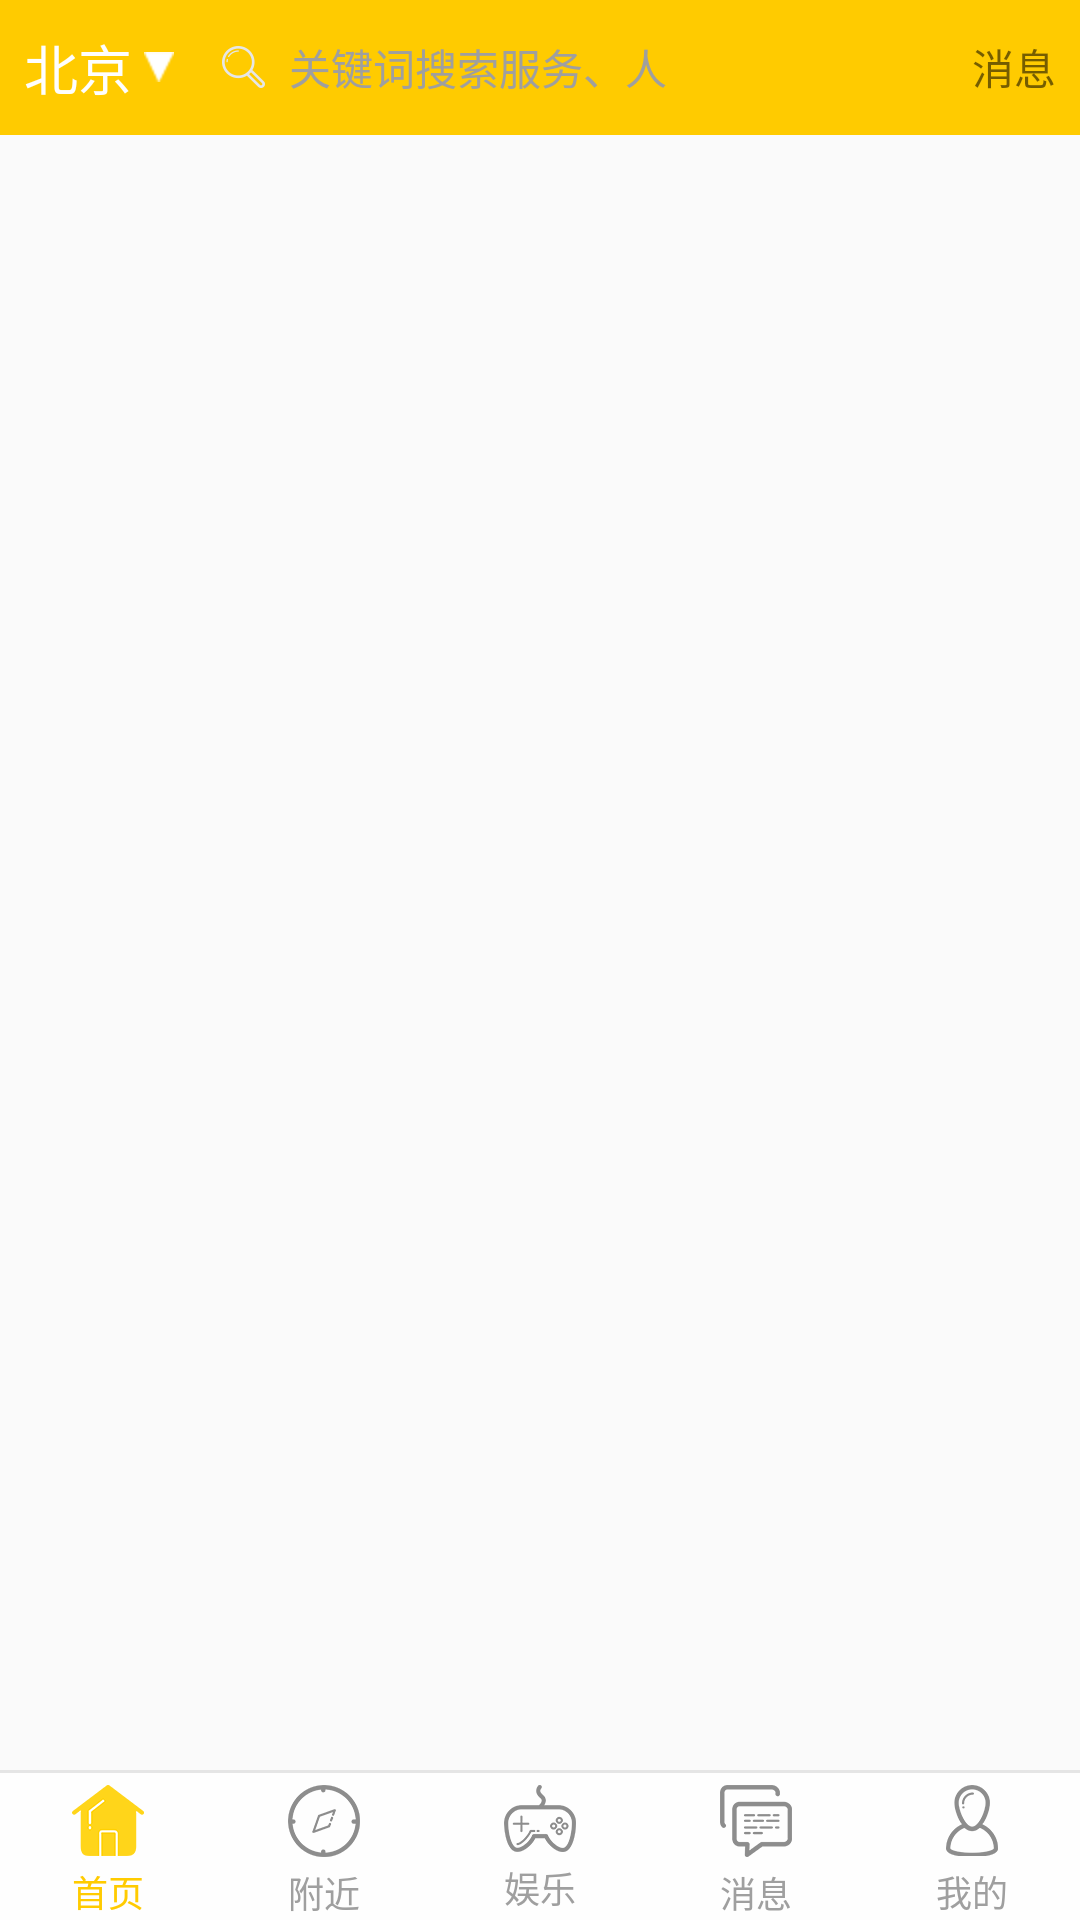

Screen size 1080w x 1920h. Icon name, then its center in pixels as [x,y]:
triangle: [159,67]
